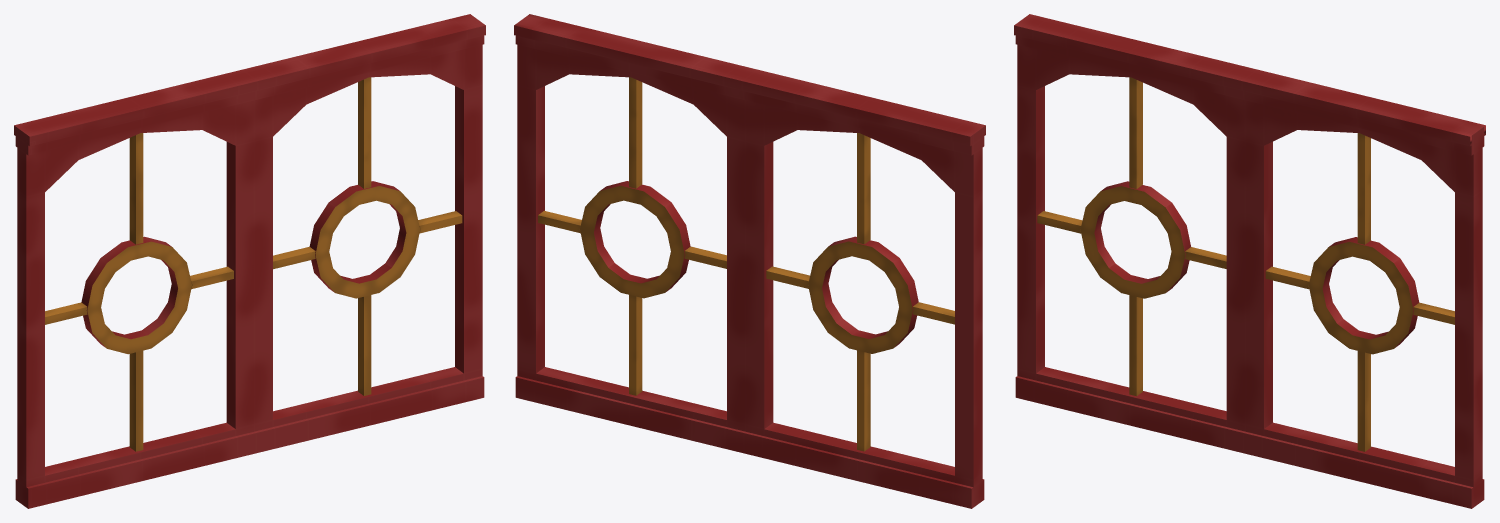
Rendered from Env_Harbor_Prop_Railing_01.fbx.
3 views of the same model, side by side, from view 1: azimuth 30°, elevation 25°; view 2: azimuth 150°, elevation 25°; view 3: azimuth 330°, elevation 25° (orthographic).
Parts seen in each view (by area): view 1: Harbor_Rail_01; view 2: Harbor_Rail_01; view 3: Harbor_Rail_01.
Part boxes in pixels (bbox=[...]): Harbor_Rail_01: bbox=[14, 14, 485, 508]; Harbor_Rail_01: bbox=[514, 14, 985, 508]; Harbor_Rail_01: bbox=[1014, 14, 1485, 508].
Size of the model in its own units: 590 by 461 by 35.01.
